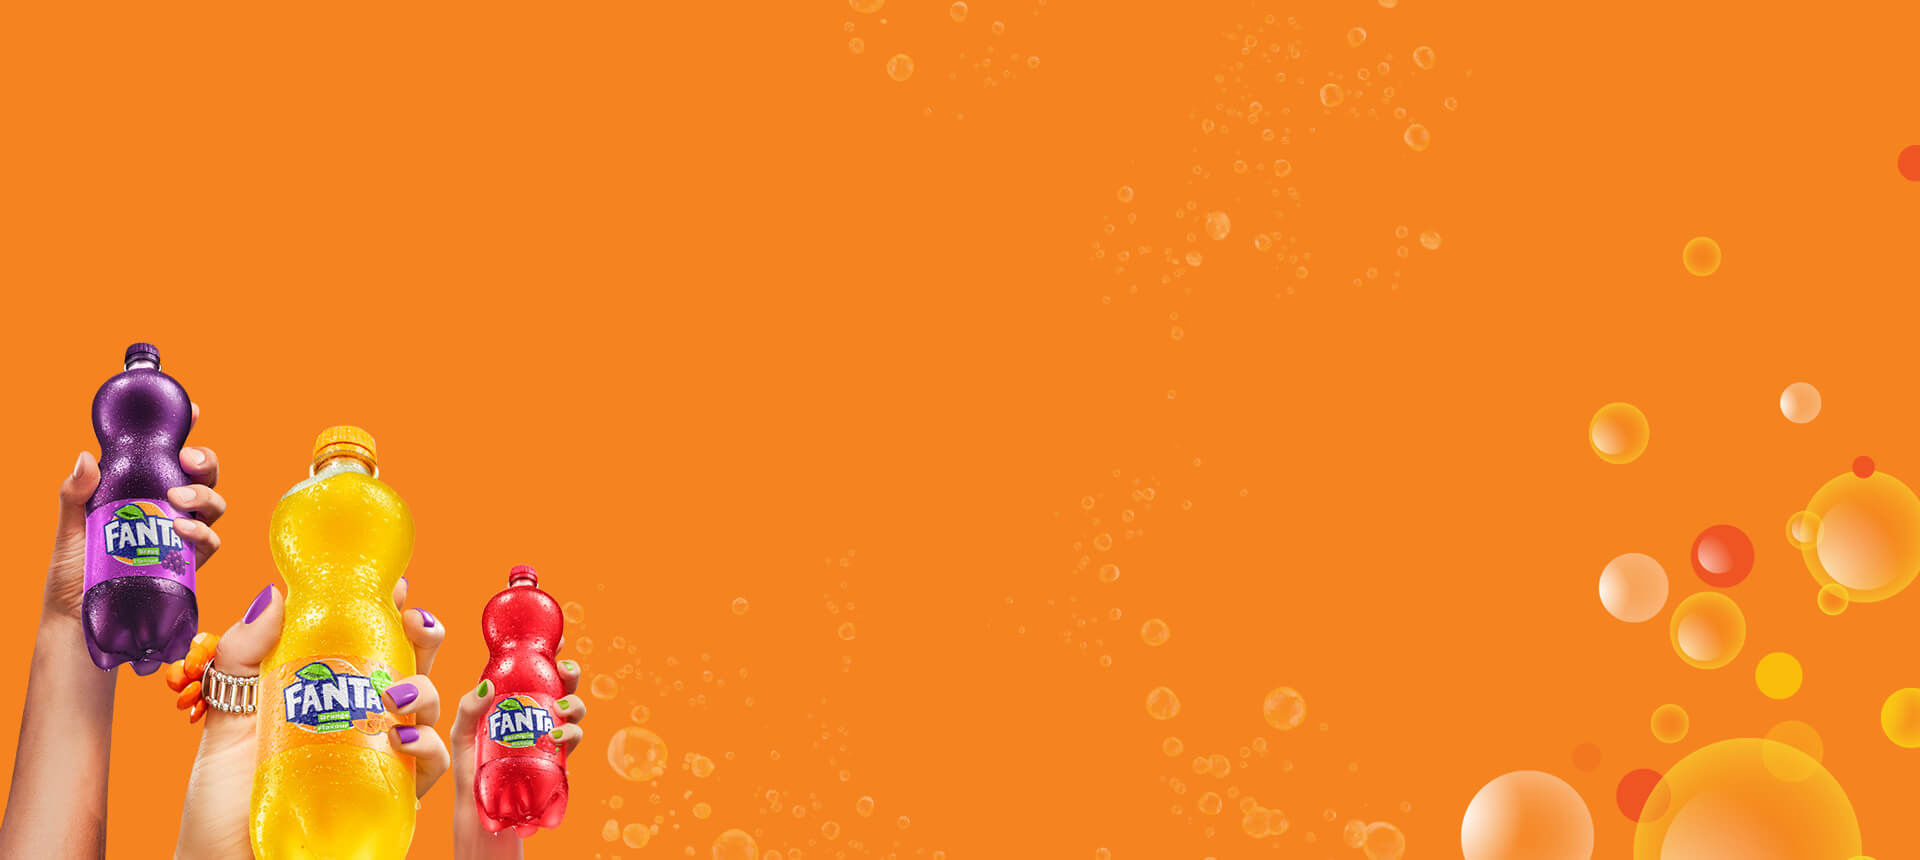Fanta: (279, 426, 430, 860)
